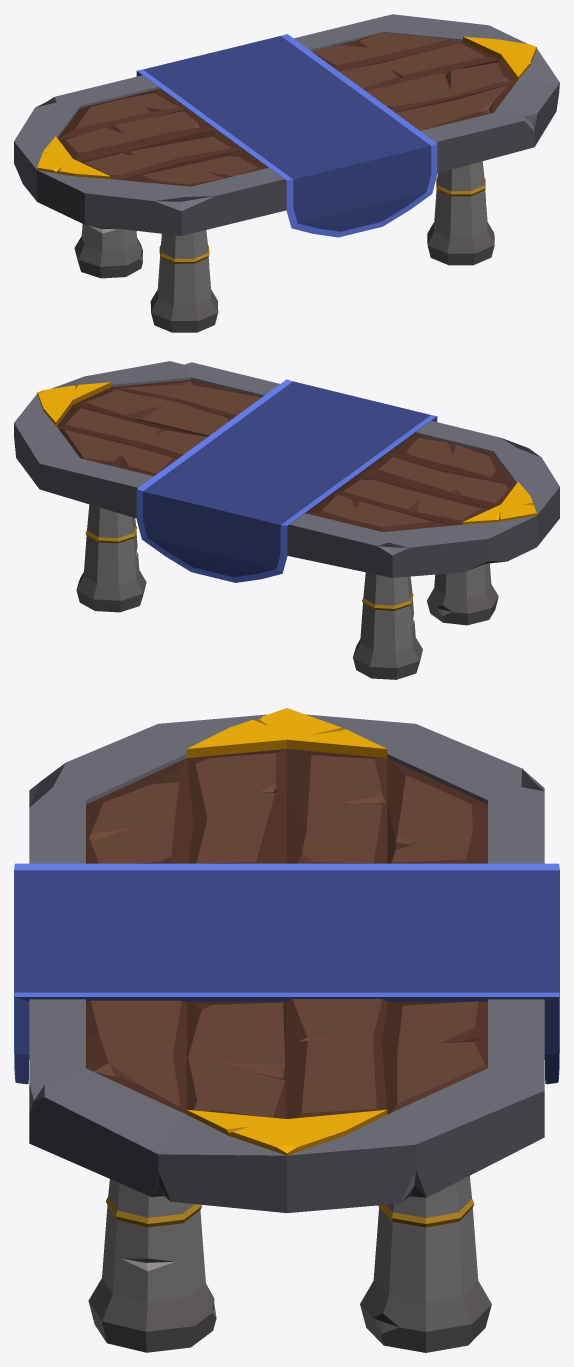
Rendered from Table_Wood_01.glb.
The picture shows the model from 3 angles, top to bottom: view 1: azimuth 30°, elevation 25°; view 2: azimuth 150°, elevation 25°; view 3: azimuth 270°, elevation 25°; orthographic projection. The views are drawn at different scales.
Parts seen in each view (by area): view 1: Table_Wood_01; view 2: Table_Wood_01; view 3: Table_Wood_01.
Boxes of the visible parts, bbox=[...] form: Table_Wood_01: bbox=[14, 14, 559, 332]; Table_Wood_01: bbox=[14, 361, 559, 679]; Table_Wood_01: bbox=[14, 708, 559, 1352].
Size of what is drawn, in the model's own units: 3.41 by 0.9926 by 1.77.
Materials: 1 (1 with a texture image).
